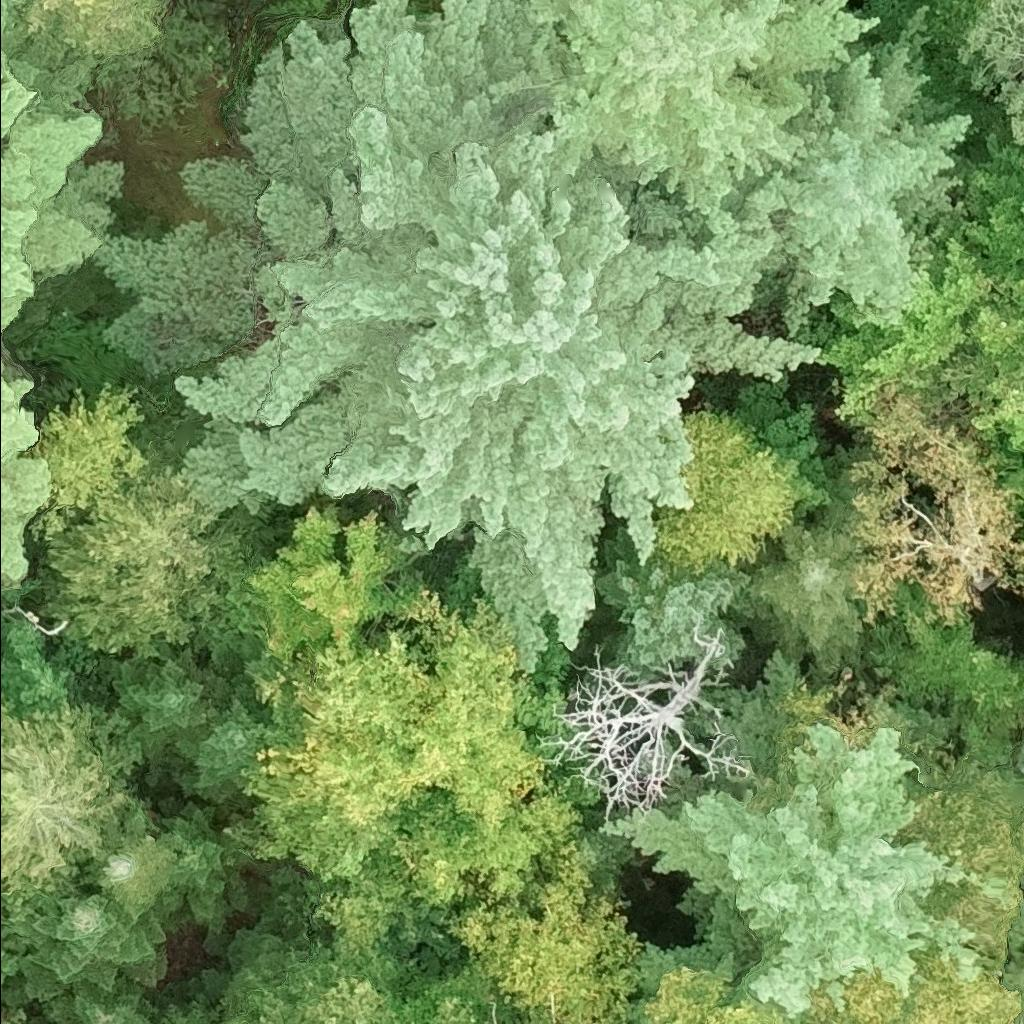crown: (178, 0, 822, 657), (523, 0, 877, 222), (767, 14, 972, 324), (796, 233, 991, 421), (923, 133, 1023, 499), (0, 54, 100, 314), (650, 408, 793, 567), (0, 365, 49, 586), (9, 0, 163, 57), (965, 0, 1023, 149), (0, 298, 29, 350)
